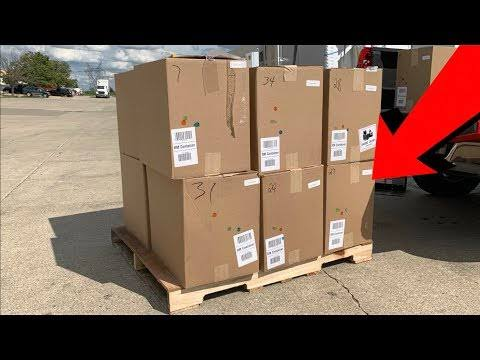box: (166, 51, 253, 177), (181, 173, 262, 290), (256, 64, 324, 173), (261, 163, 324, 274), (327, 67, 384, 164), (146, 167, 185, 290), (324, 158, 376, 250), (134, 56, 170, 182), (118, 154, 150, 252), (111, 67, 133, 172)
box_label: (168, 125, 198, 166), (231, 227, 259, 269), (259, 134, 282, 173), (264, 232, 287, 271), (330, 128, 349, 162), (328, 217, 347, 251)
pallet: (110, 220, 374, 315)
